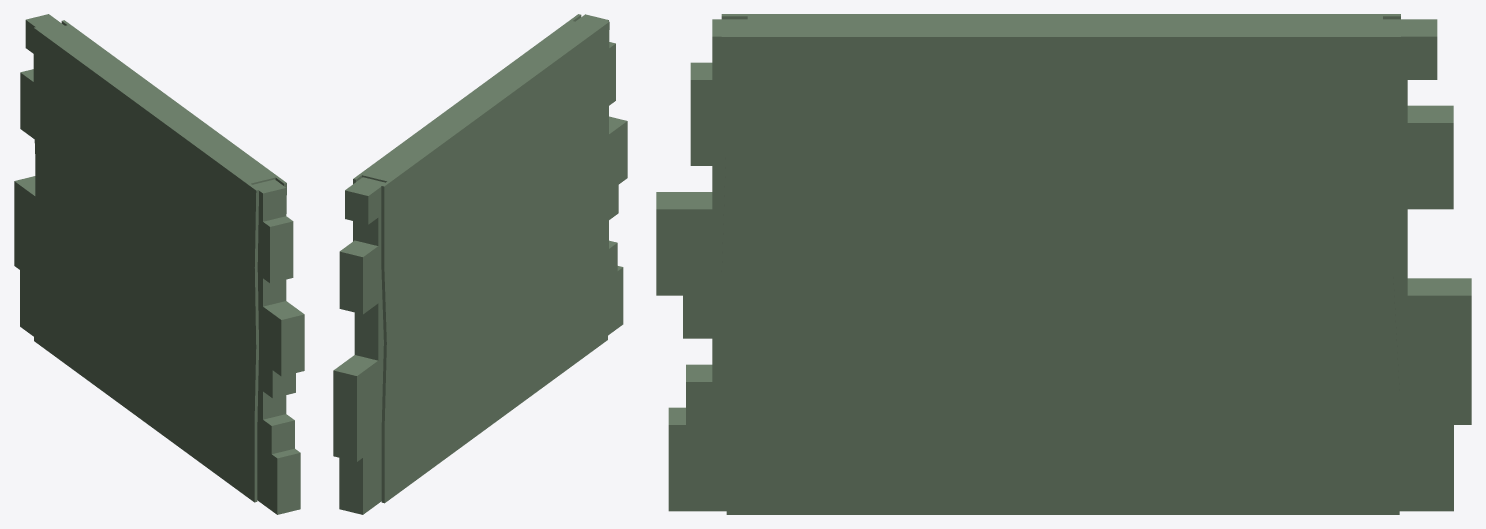
Rendered from walls5_LP.fbx.
The picture shows the model from 3 angles, left to right: view 1: azimuth 30°, elevation 25°; view 2: azimuth 150°, elevation 25°; view 3: azimuth 270°, elevation 25°; orthographic projection. The views are drawn at different scales.
Visible parts, largest first — view 1: wall17_LP, wall18_LP, wall16_LP; view 2: wall17_LP, wall16_LP, wall18_LP; view 3: wall17_LP, wall16_LP, wall18_LP.
Part boxes in pixels (bbox=[...]): wall17_LP: bbox=[33, 20, 286, 502]; wall18_LP: bbox=[253, 179, 304, 514]; wall16_LP: bbox=[14, 14, 64, 336]; wall17_LP: bbox=[353, 14, 609, 503]; wall16_LP: bbox=[333, 177, 384, 514]; wall18_LP: bbox=[576, 14, 627, 335]; wall17_LP: bbox=[721, 14, 1400, 514]; wall16_LP: bbox=[1383, 19, 1471, 511]; wall18_LP: bbox=[656, 19, 747, 511].
Size of the model in its own units: 43.28 by 420 by 649.
